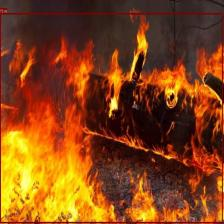fire: (0, 13, 223, 223)
